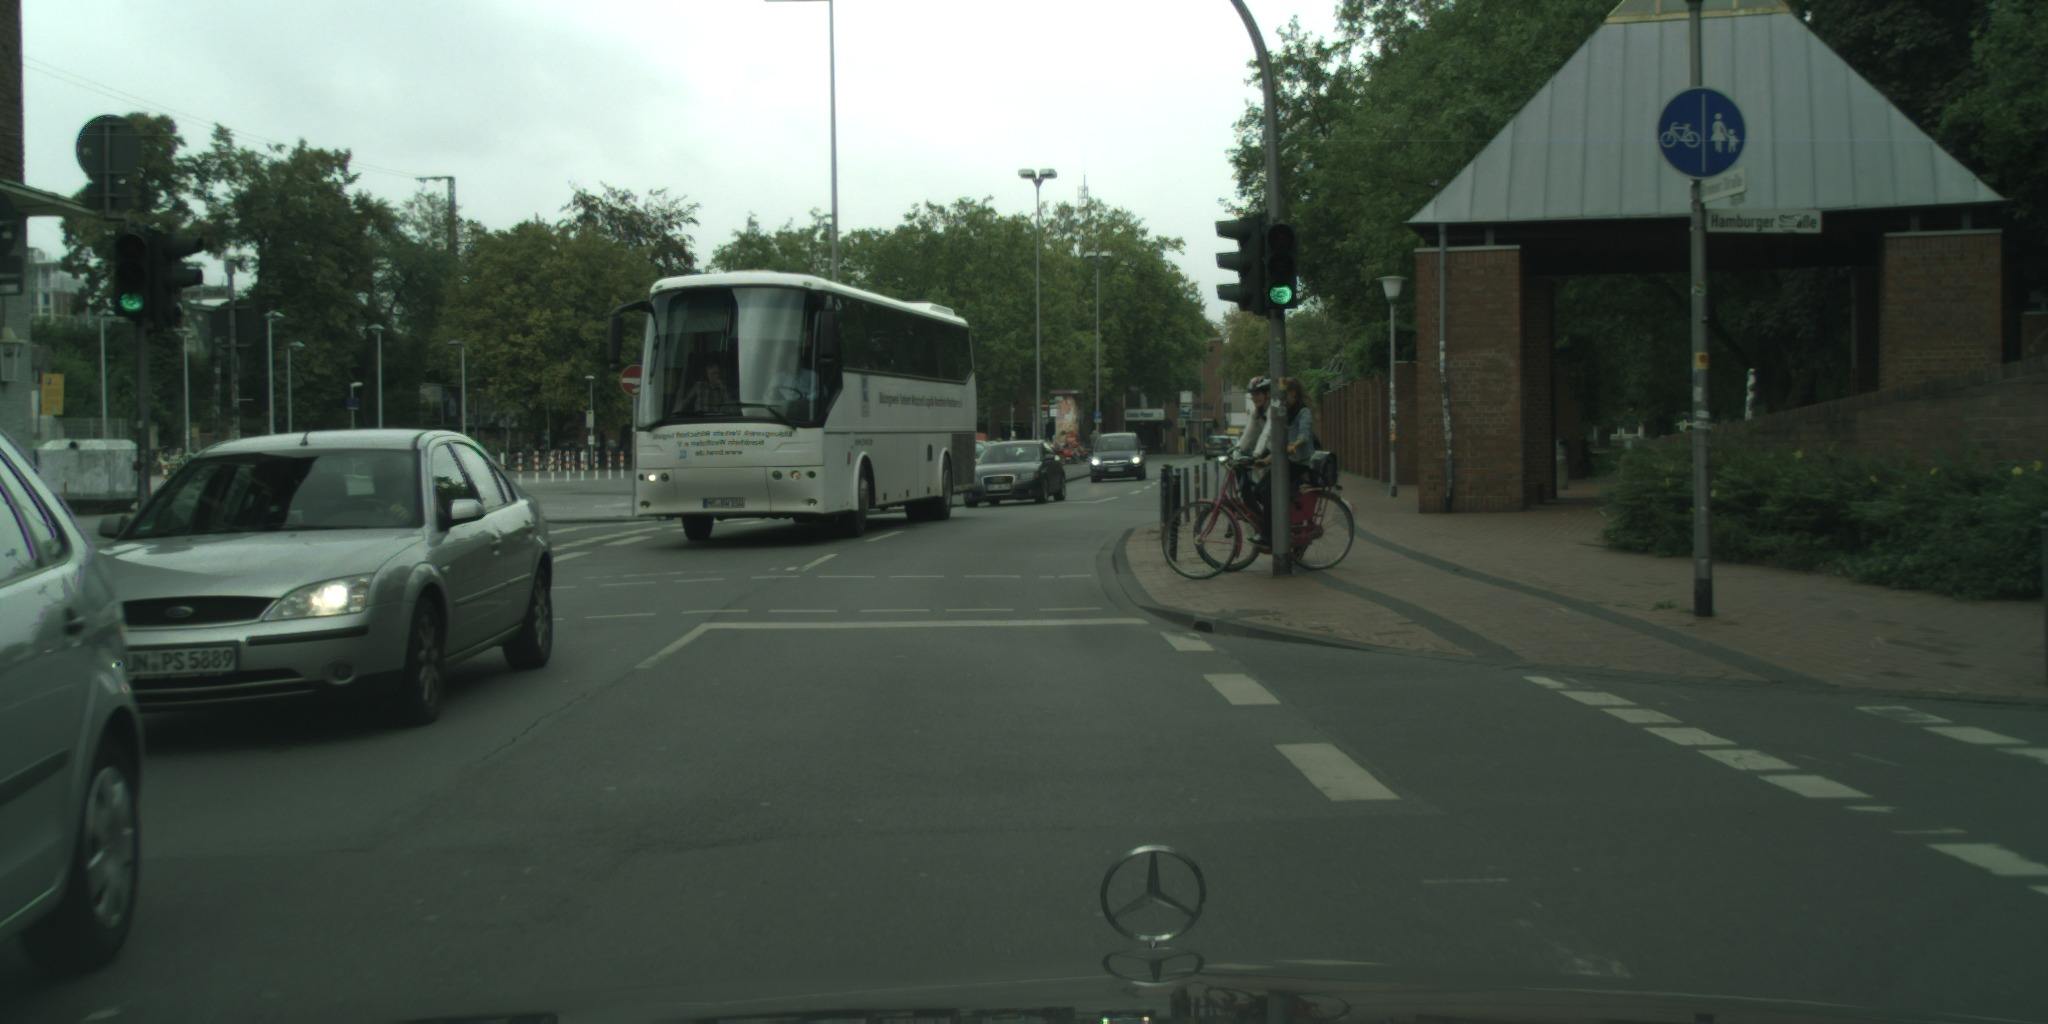bicycle: (1163, 449, 1357, 580), (1193, 452, 1322, 571)
bus: (607, 270, 978, 540)
car: (74, 428, 554, 728), (0, 435, 144, 982), (963, 439, 1066, 508), (1089, 431, 1146, 485), (962, 440, 996, 479), (1205, 435, 1239, 462)
motorcycle: (1056, 440, 1089, 465)
rider: (1247, 374, 1315, 547), (1221, 374, 1287, 521)
truck: (1220, 425, 1245, 454)
